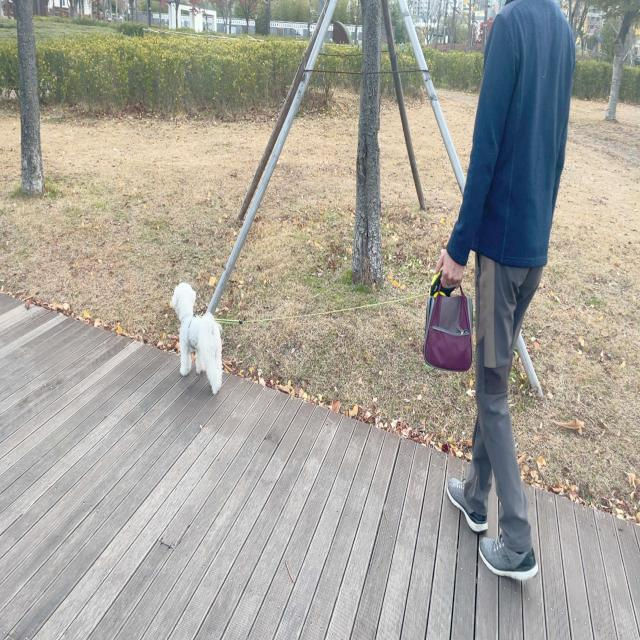Leashed_Dog: (172, 249, 526, 396)
